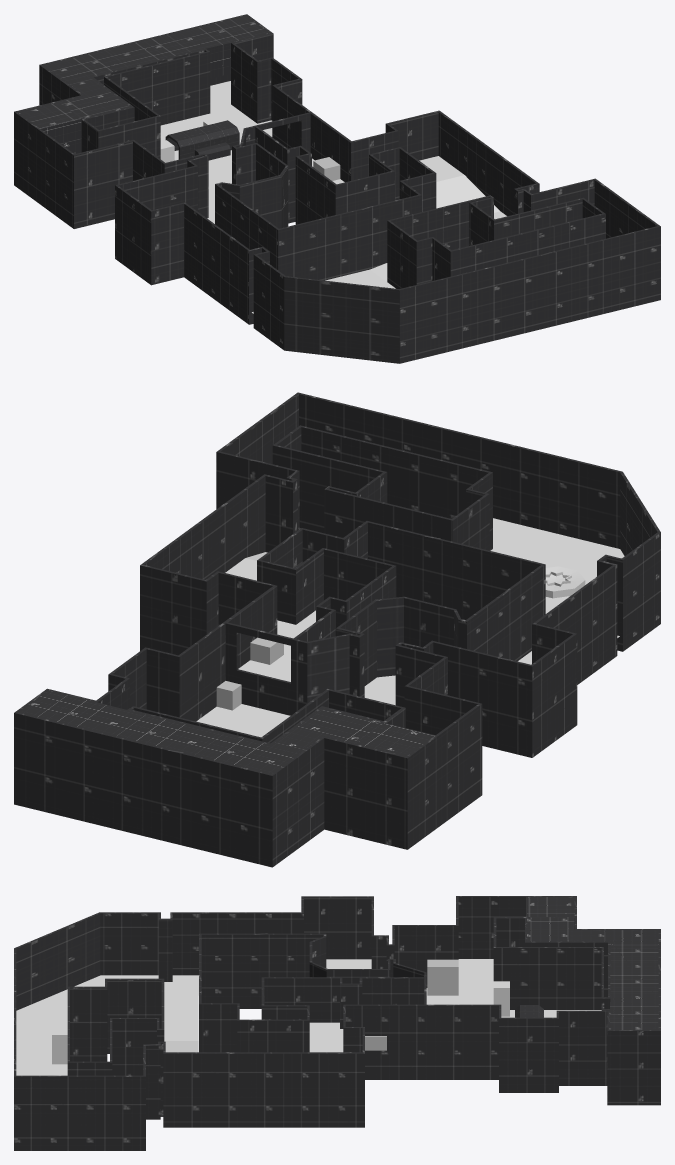
Rendered from BindMap.fbx.
3 views of the same model, one above another, from view 1: azimuth 30°, elevation 25°; view 2: azimuth 150°, elevation 25°; view 3: azimuth 270°, elevation 25° (orthographic). The views are drawn at different scales.
Parts seen in each view (by area): view 1: Walls, Ceil, Ground, Container; view 2: Walls, Ceil, Ground, Circle, Cube.005; view 3: Walls, Ground, Ceil, Cube.004, Cube.007, Cube.002.
Boxes of the visible parts, x1=… form: Walls: x1=14, y1=14, x2=660, y2=363; Ceil: x1=17, y1=15, x2=269, y2=152; Ground: x1=160, y1=81, x2=506, y2=313; Container: x1=165, y1=120, x2=239, y2=159; Walls: x1=14, y1=392, x2=660, y2=867; Ceil: x1=18, y1=690, x2=434, y2=774; Ground: x1=196, y1=518, x2=624, y2=737; Circle: x1=545, y1=566, x2=585, y2=598; Cube.005: x1=250, y1=637, x2=283, y2=664; Walls: x1=14, y1=896, x2=660, y2=1150; Ground: x1=16, y1=959, x2=601, y2=1075; Ceil: x1=527, y1=897, x2=658, y2=1029; Cube.004: x1=427, y1=959, x2=458, y2=995; Cube.007: x1=52, y1=1028, x2=67, y2=1064; Cube.002: x1=493, y1=981, x2=509, y2=1016.
Bounding box in the file's own units: 34.54 × 6.91 × 52.25.
